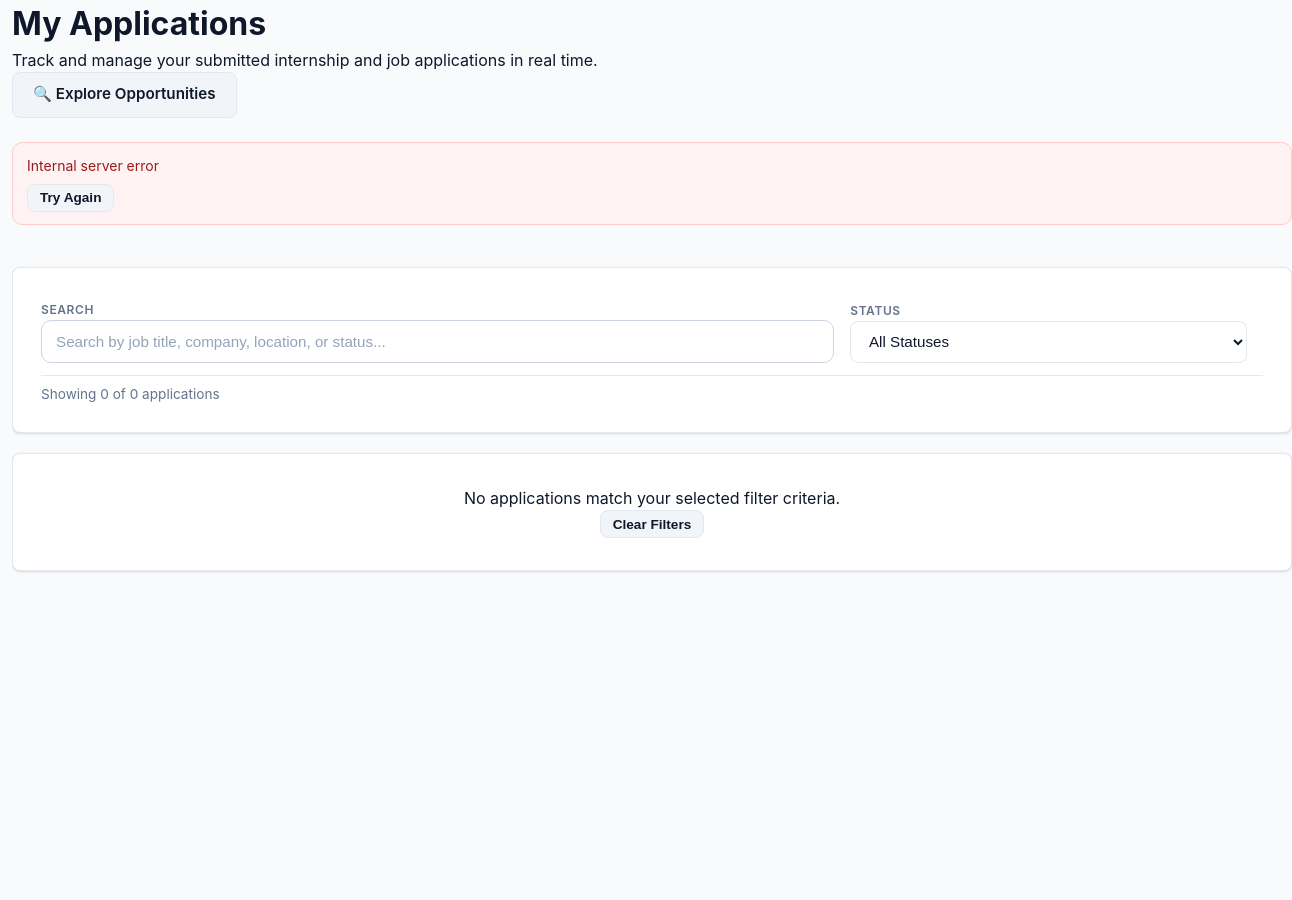
Test: StudentApplicationsPage › displays error alert with retry button when initial fetch fails, and retries on click
Expected: the message shows "Internal server error", [27,157,159,174]
Click the button "Try Again": x=71, y=198 [27,184,114,212]
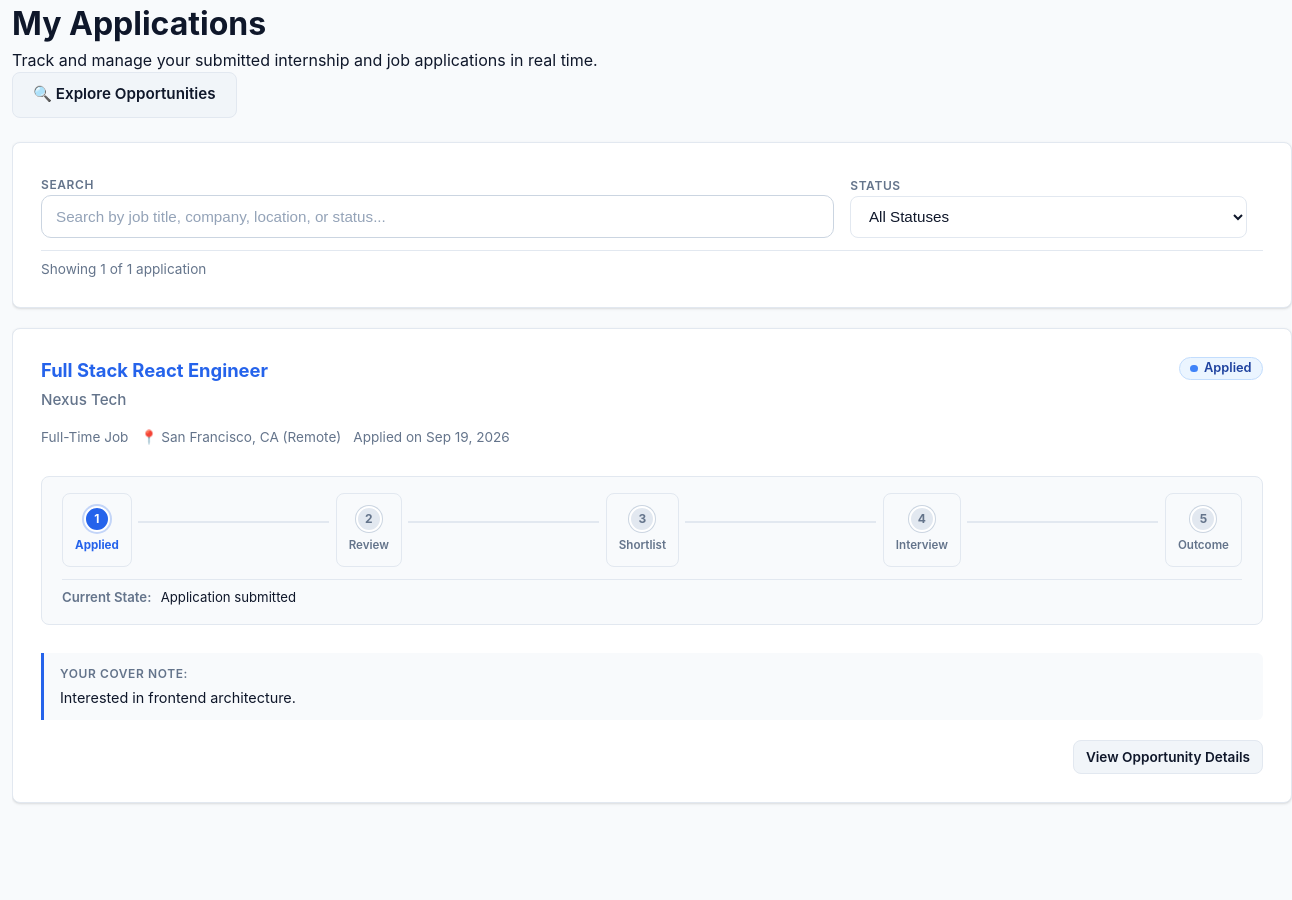
Expected: the link "Full Stack React Engineer" is shown, [41,359,268,381]
